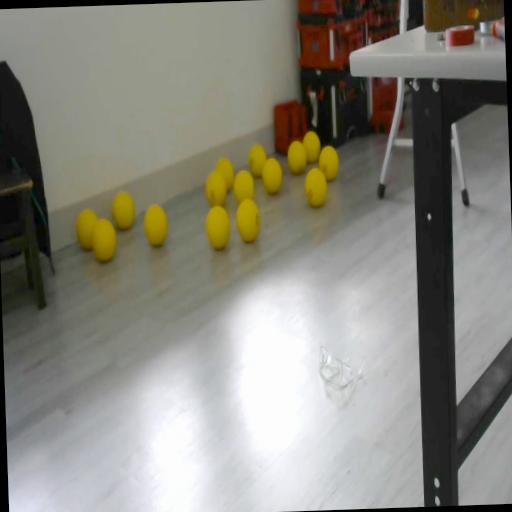FUEL: (203, 203, 231, 250), (90, 216, 118, 262), (234, 196, 261, 242), (143, 203, 168, 246), (111, 188, 135, 230), (303, 166, 327, 208), (260, 156, 282, 194), (232, 168, 254, 204), (318, 144, 339, 180), (214, 156, 234, 192), (301, 128, 321, 164), (286, 140, 306, 174), (247, 142, 266, 176)
